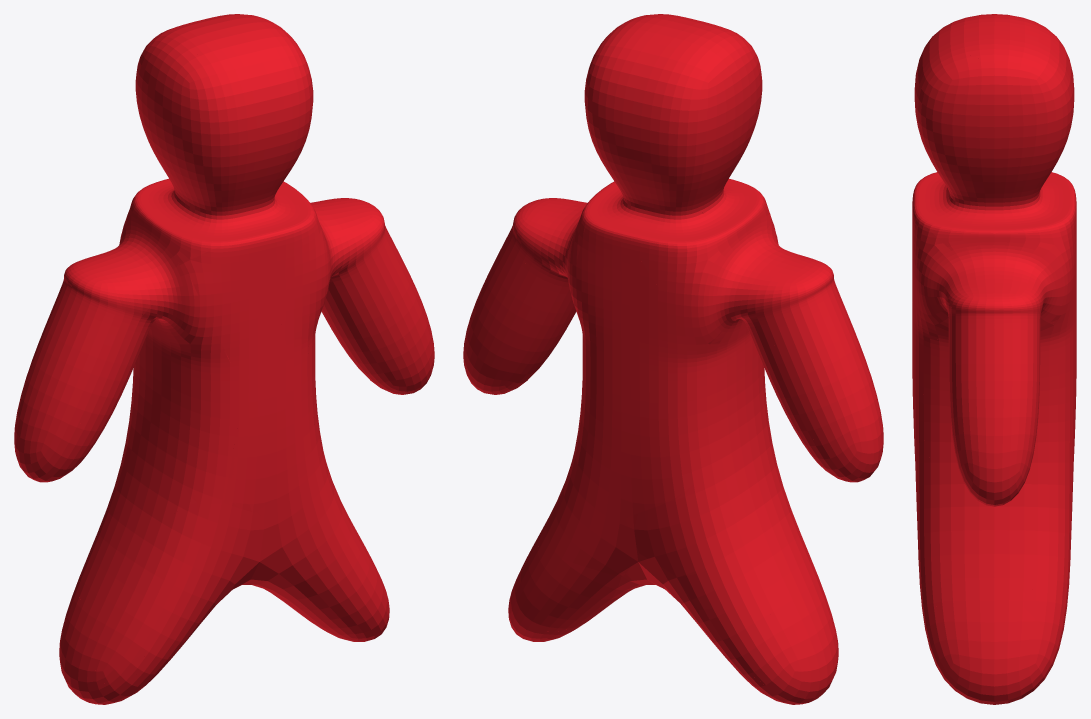
File: Player.fbx
3 views of the same model, side by side, from view 1: azimuth 30°, elevation 25°; view 2: azimuth 150°, elevation 25°; view 3: azimuth 270°, elevation 25° (orthographic). The views are drawn at different scales.
Visible parts, largest first — view 1: Player, Player_cell.009, Player_cell.059, Player_cell.057, Player_cell.031, Player_cell.004, Player_cell.050, Player_cell.028, Player_cell.034, Player_cell.022, Player_cell.051, Player_cell.005 (+18 smaller); view 2: Player, Player_cell.005, Player_cell.040, Player_cell.011, Player_cell.032, Player_cell.036, Player_cell.074, Player_cell.035, Player_cell.047, Player_cell.062, Player_cell.022, Player_cell.024 (+15 smaller); view 3: Player, Player_cell.040, Player_cell.069, Player_cell.026, Player_cell.003, Player_cell.044, Player_cell.055, Player_cell.025, Player_cell.018, Player_cell.004, Player_cell.041, Player_cell.011 (+19 smaller).
Part boxes in pixels (<box>): Player: <box>16,14,434,704</box>; Player_cell.009: <box>224,339,318,512</box>; Player_cell.059: <box>184,238,284,366</box>; Player_cell.057: <box>171,93,290,187</box>; Player_cell.031: <box>159,363,247,503</box>; Player_cell.004: <box>261,220,329,339</box>; Player_cell.050: <box>130,263,230,365</box>; Player_cell.028: <box>35,329,137,423</box>; Player_cell.034: <box>153,137,247,262</box>; Player_cell.022: <box>157,42,225,143</box>; Player_cell.051: <box>345,240,421,345</box>; Player_cell.005: <box>106,413,195,517</box>; Player: <box>463,14,883,704</box>; Player_cell.005: <box>625,422,780,577</box>; Player_cell.040: <box>535,448,638,576</box>; Player_cell.011: <box>517,541,620,631</box>; Player_cell.032: <box>678,486,816,621</box>; Player_cell.036: <box>699,609,817,693</box>; Player_cell.074: <box>600,414,729,517</box>; Player_cell.035: <box>793,361,861,457</box>; Player_cell.047: <box>795,262,848,351</box>; Player_cell.062: <box>627,553,701,628</box>; Player_cell.022: <box>714,33,762,125</box>; Player_cell.024: <box>463,310,530,394</box>; Player: <box>912,14,1076,704</box>; Player_cell.040: <box>976,451,1073,592</box>; Player_cell.069: <box>916,107,1013,173</box>; Player_cell.026: <box>916,159,1007,251</box>; Player_cell.003: <box>991,608,1056,692</box>; Player_cell.044: <box>919,331,958,466</box>; Player_cell.055: <box>951,410,1022,506</box>; Player_cell.025: <box>947,249,1029,342</box>; Player_cell.018: <box>918,251,960,340</box>; Player_cell.004: <box>912,198,950,328</box>; Player_cell.041: <box>919,74,994,115</box>; Player_cell.011: <box>1024,560,1070,648</box>.
Size of what is drawn, in the model's own units: 552 by 820 by 200.
